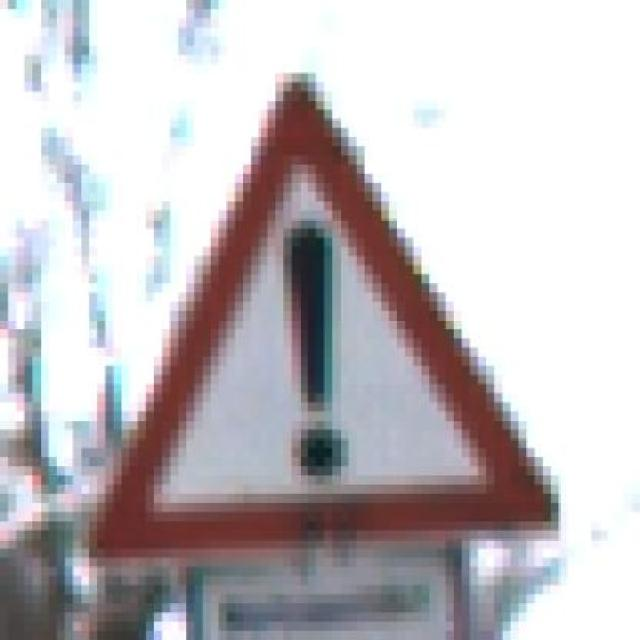Attention Please-: (72, 55, 576, 567)
